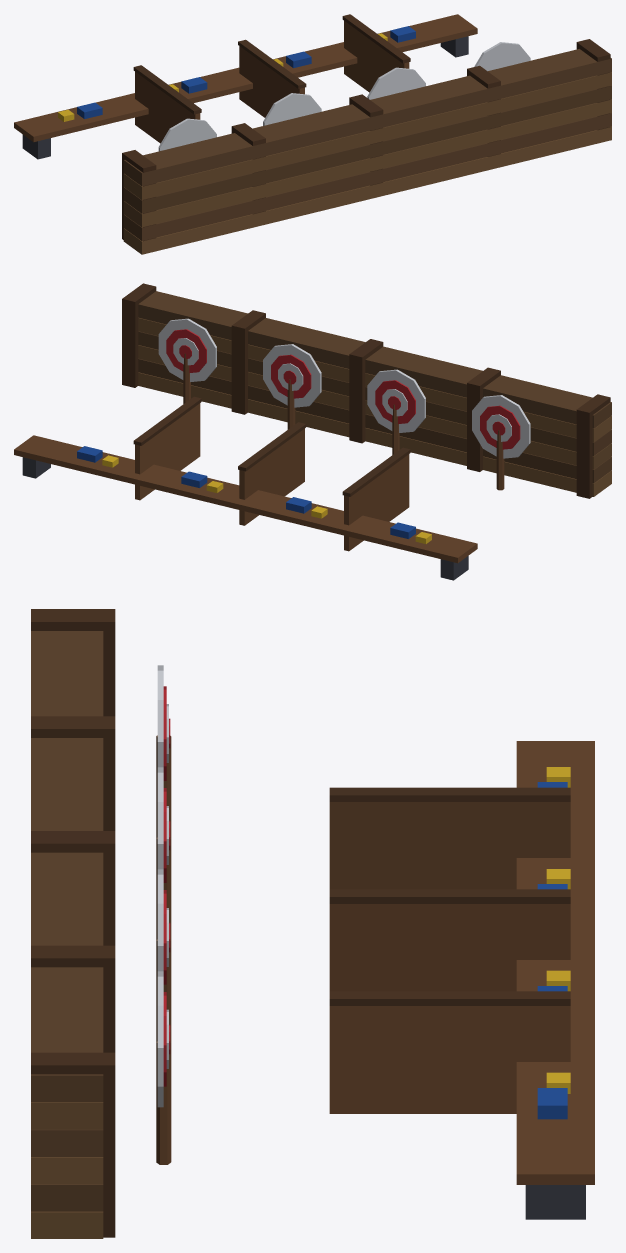
The model's file is Decor_PoliceStation_Range.fbx.
3 views of the same model, one above another, from view 1: azimuth 30°, elevation 25°; view 2: azimuth 150°, elevation 25°; view 3: azimuth 270°, elevation 25° (orthographic). The views are drawn at different scales.
Parts seen in each view (by area): view 1: Range_Body; view 2: Range_Body; view 3: Range_Body.
Part boxes in pixels (<box>): Range_Body: <box>14,14,611,254</box>; Range_Body: <box>14,283,611,580</box>; Range_Body: <box>31,609,594,1238</box>.
Size of the model in its own units: 36 by 6.8 by 18.7.
